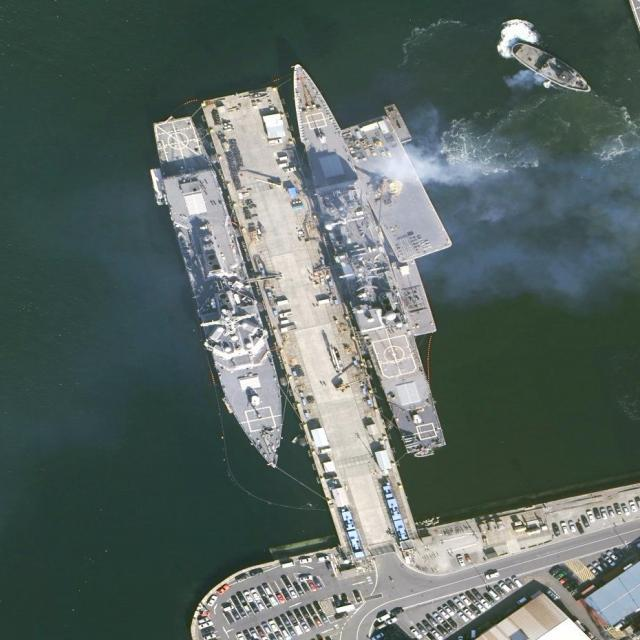Cruiser: (275, 58, 446, 459)
Destroyer: (145, 107, 302, 476)
Dock: (202, 83, 419, 557)
Other Ship: (412, 449, 436, 460)
Other Warship: (506, 36, 597, 100)
